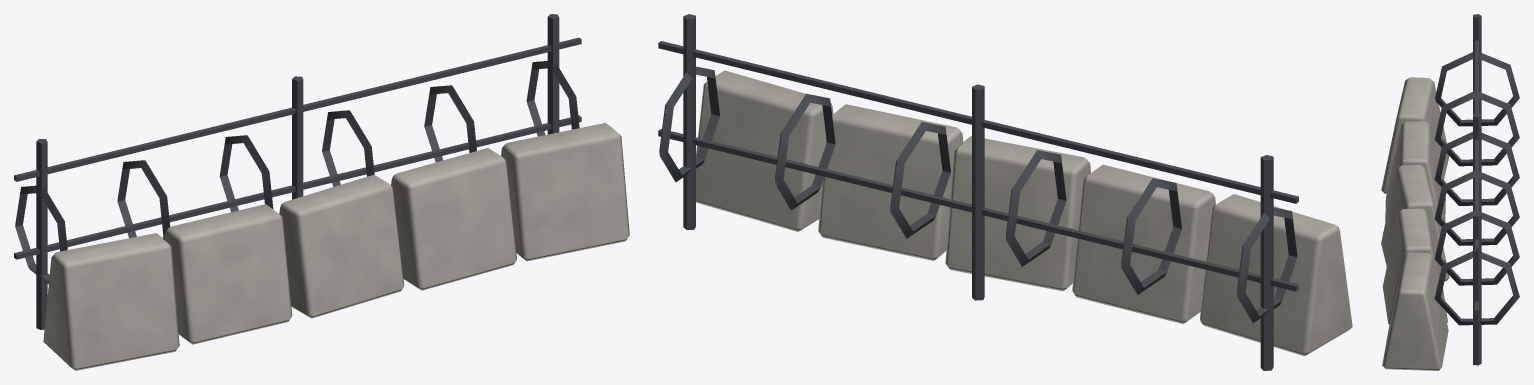
The model's file is fort_l5_edge.glb.
3 renders of one model, left to right at view 1: azimuth 30°, elevation 25°; view 2: azimuth 150°, elevation 25°; view 3: azimuth 270°, elevation 25°, orthographic. The views are drawn at different scales.
Visible parts, largest first — view 1: fort_l5_edge; view 2: fort_l5_edge; view 3: fort_l5_edge.
Boxes of the visible parts, x1,y1,x2,y2 form: fort_l5_edge: (14,14,629,370); fort_l5_edge: (658,14,1352,370); fort_l5_edge: (1381,14,1519,370).
Bounding box in the file's own units: 0.76 × 0.24 × 0.2029.
Materials: 1 (1 with a texture image).
